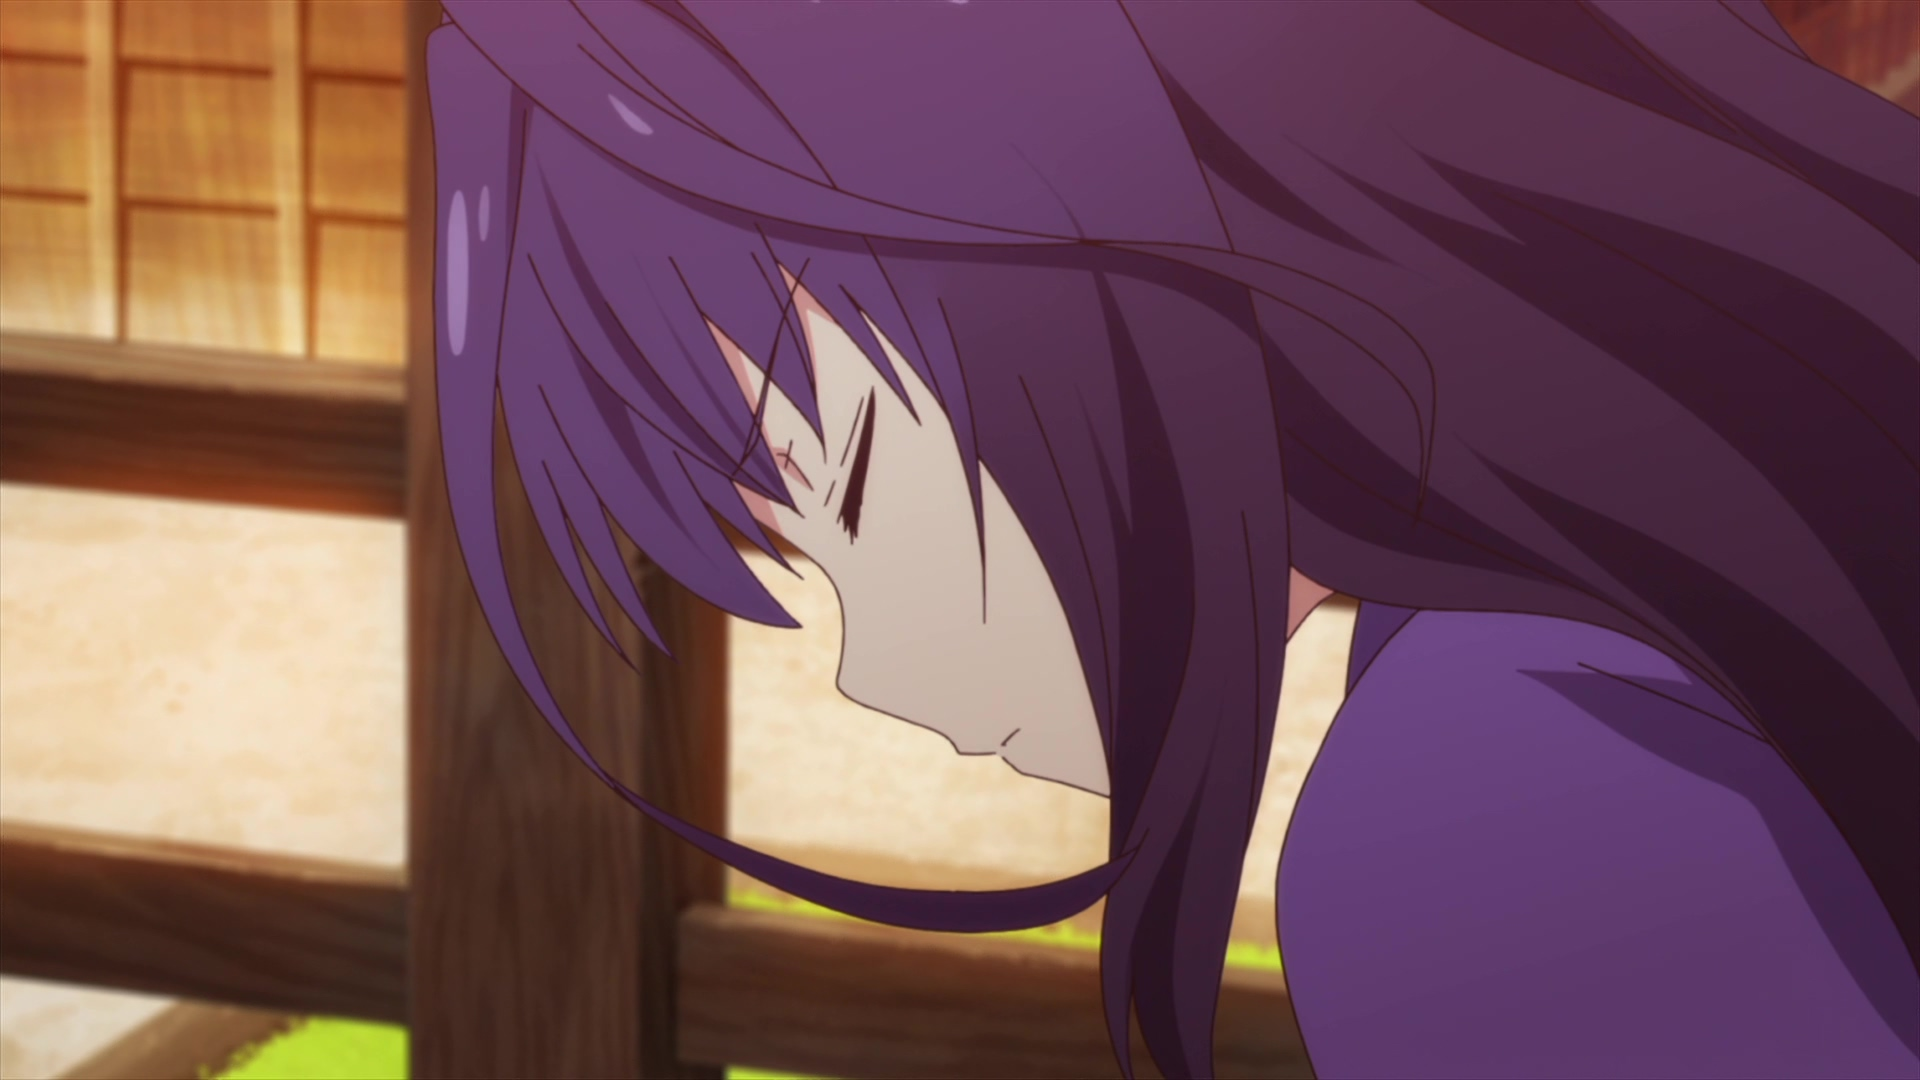皋: (426, 1, 1920, 1080)
